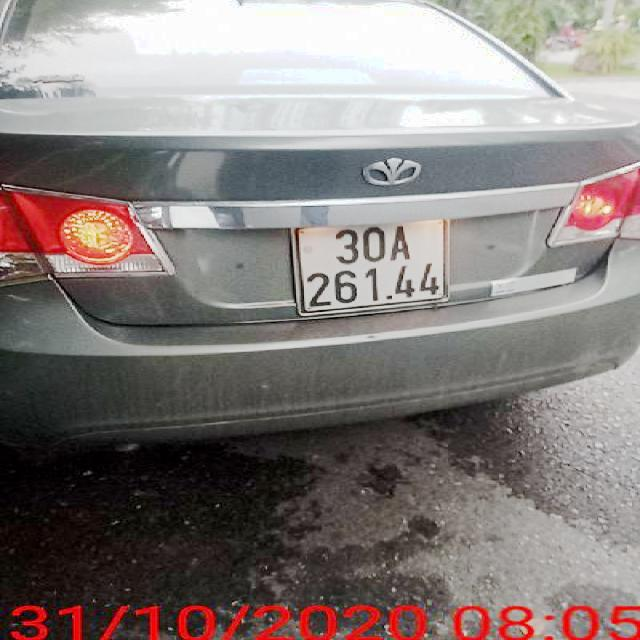license_plate: (305, 220, 450, 317)
